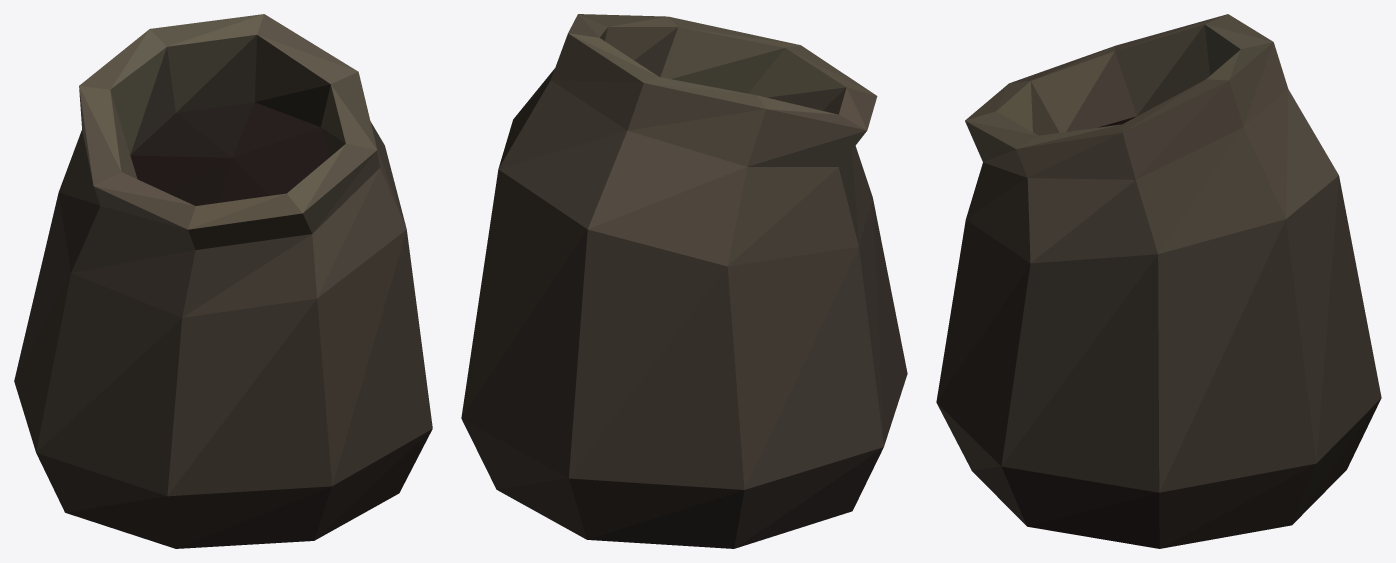
Rendered from prop_container_sack_2.fbx.
3 views of the same model, side by side, from view 1: azimuth 30°, elevation 25°; view 2: azimuth 150°, elevation 25°; view 3: azimuth 270°, elevation 25° (orthographic). The views are drawn at different scales.
Visible parts, largest first — view 1: prop_container_sack_2; view 2: prop_container_sack_2; view 3: prop_container_sack_2.
Part boxes in pixels (<box>): prop_container_sack_2: <box>14,14,432,548</box>; prop_container_sack_2: <box>461,14,907,548</box>; prop_container_sack_2: <box>936,14,1381,548</box>.
Bounding box in the file's own units: 0.9221 × 0.9794 × 0.9214.
